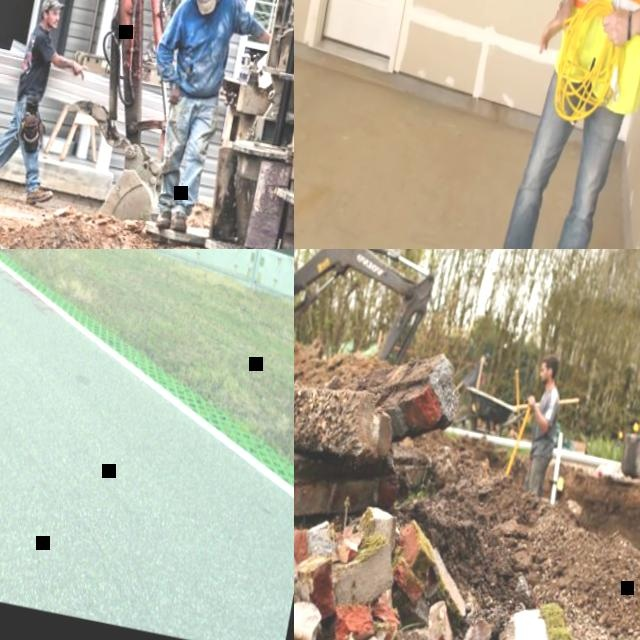NO-Hardhat: (188, 0, 220, 12), (37, 0, 65, 13), (542, 351, 561, 368)
NO-Mask: (44, 16, 59, 28), (538, 369, 548, 382)
NO-Safety Vest: (172, 0, 239, 97), (526, 385, 565, 460), (15, 28, 55, 95)
Person: (459, 0, 640, 249), (121, 0, 284, 239), (0, 0, 101, 210), (507, 348, 572, 501), (127, 0, 223, 67)
machinery: (0, 0, 219, 249), (294, 249, 452, 433)
